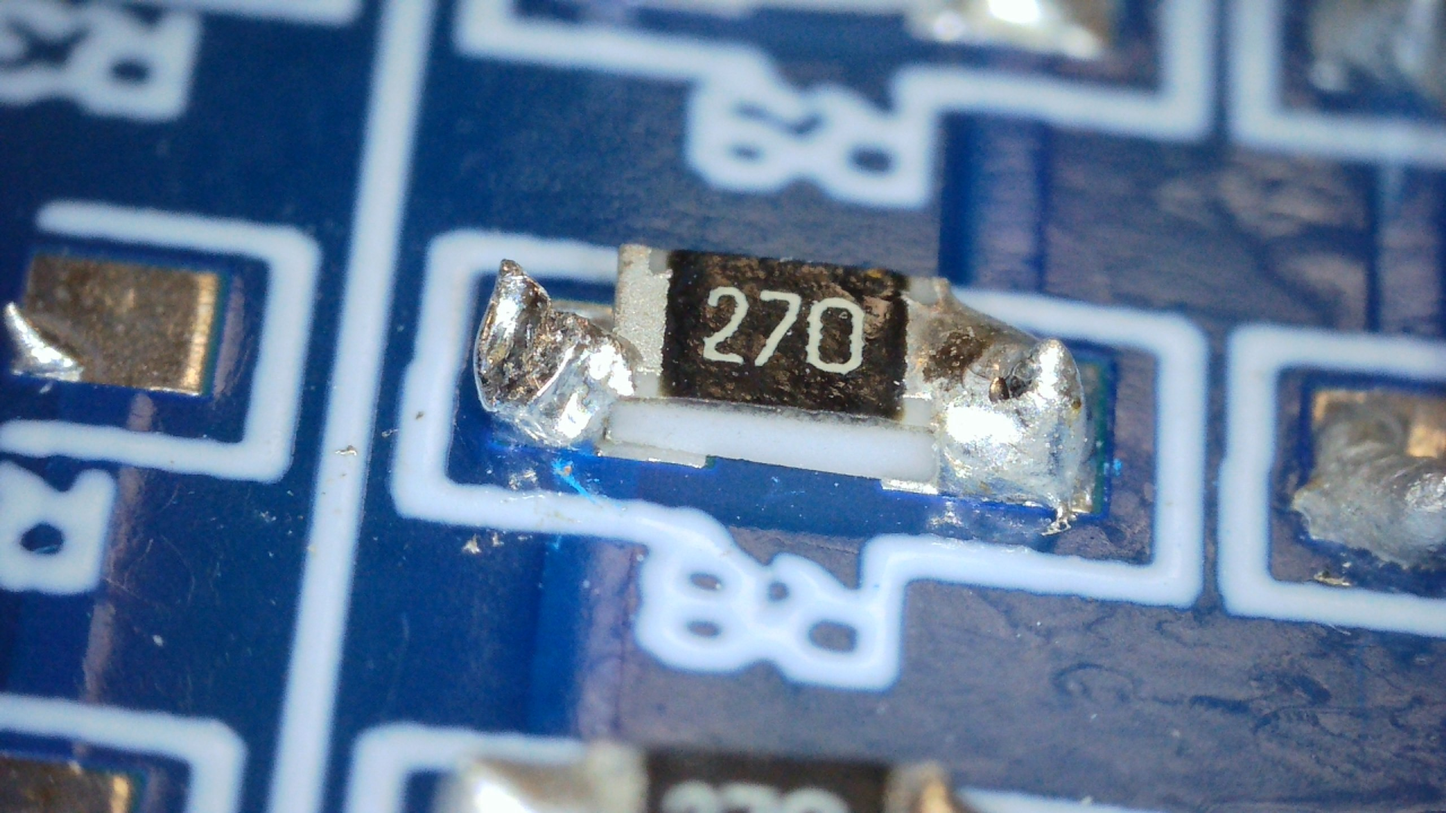NG: (899, 276, 1089, 534), (474, 257, 637, 450), (1010, 337, 1087, 535)
